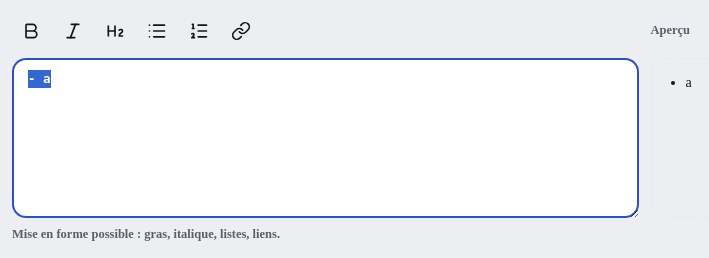
Test: the undo history › takes marks off with the command that deletes, when nothing else changes
Click the button named "Liste à puces". click: [157, 31]
box: 138,12 -> 176,50
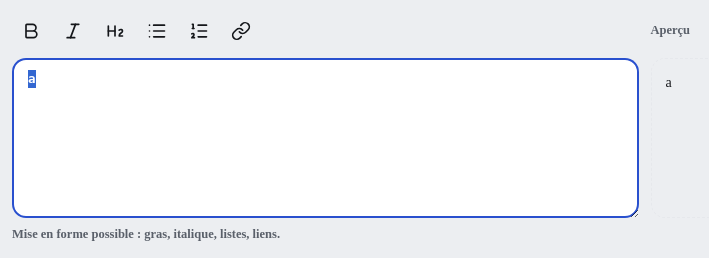
Now the text box holds "a", box 12,58 -> 638,218
